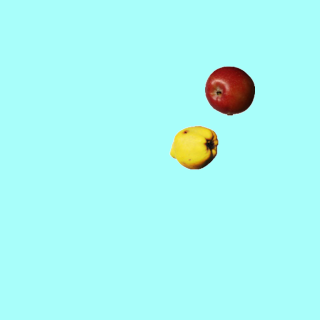Apple Braeburn: (204, 65, 254, 115)
Quince: (168, 122, 218, 172)
